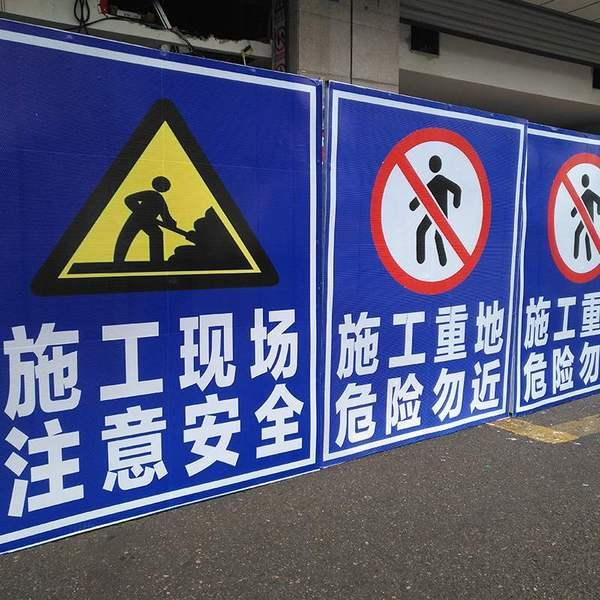sign: (7, 30, 317, 508), (331, 85, 599, 452)
